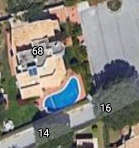pool: (45, 89, 80, 107)
